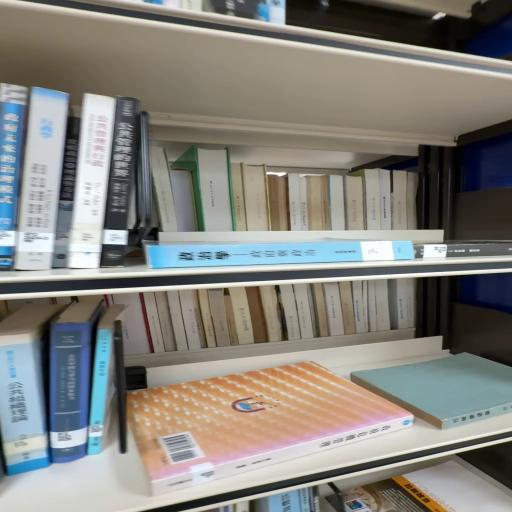flat: (127, 361, 414, 495), (350, 353, 512, 429), (144, 238, 414, 268), (413, 241, 512, 259)
